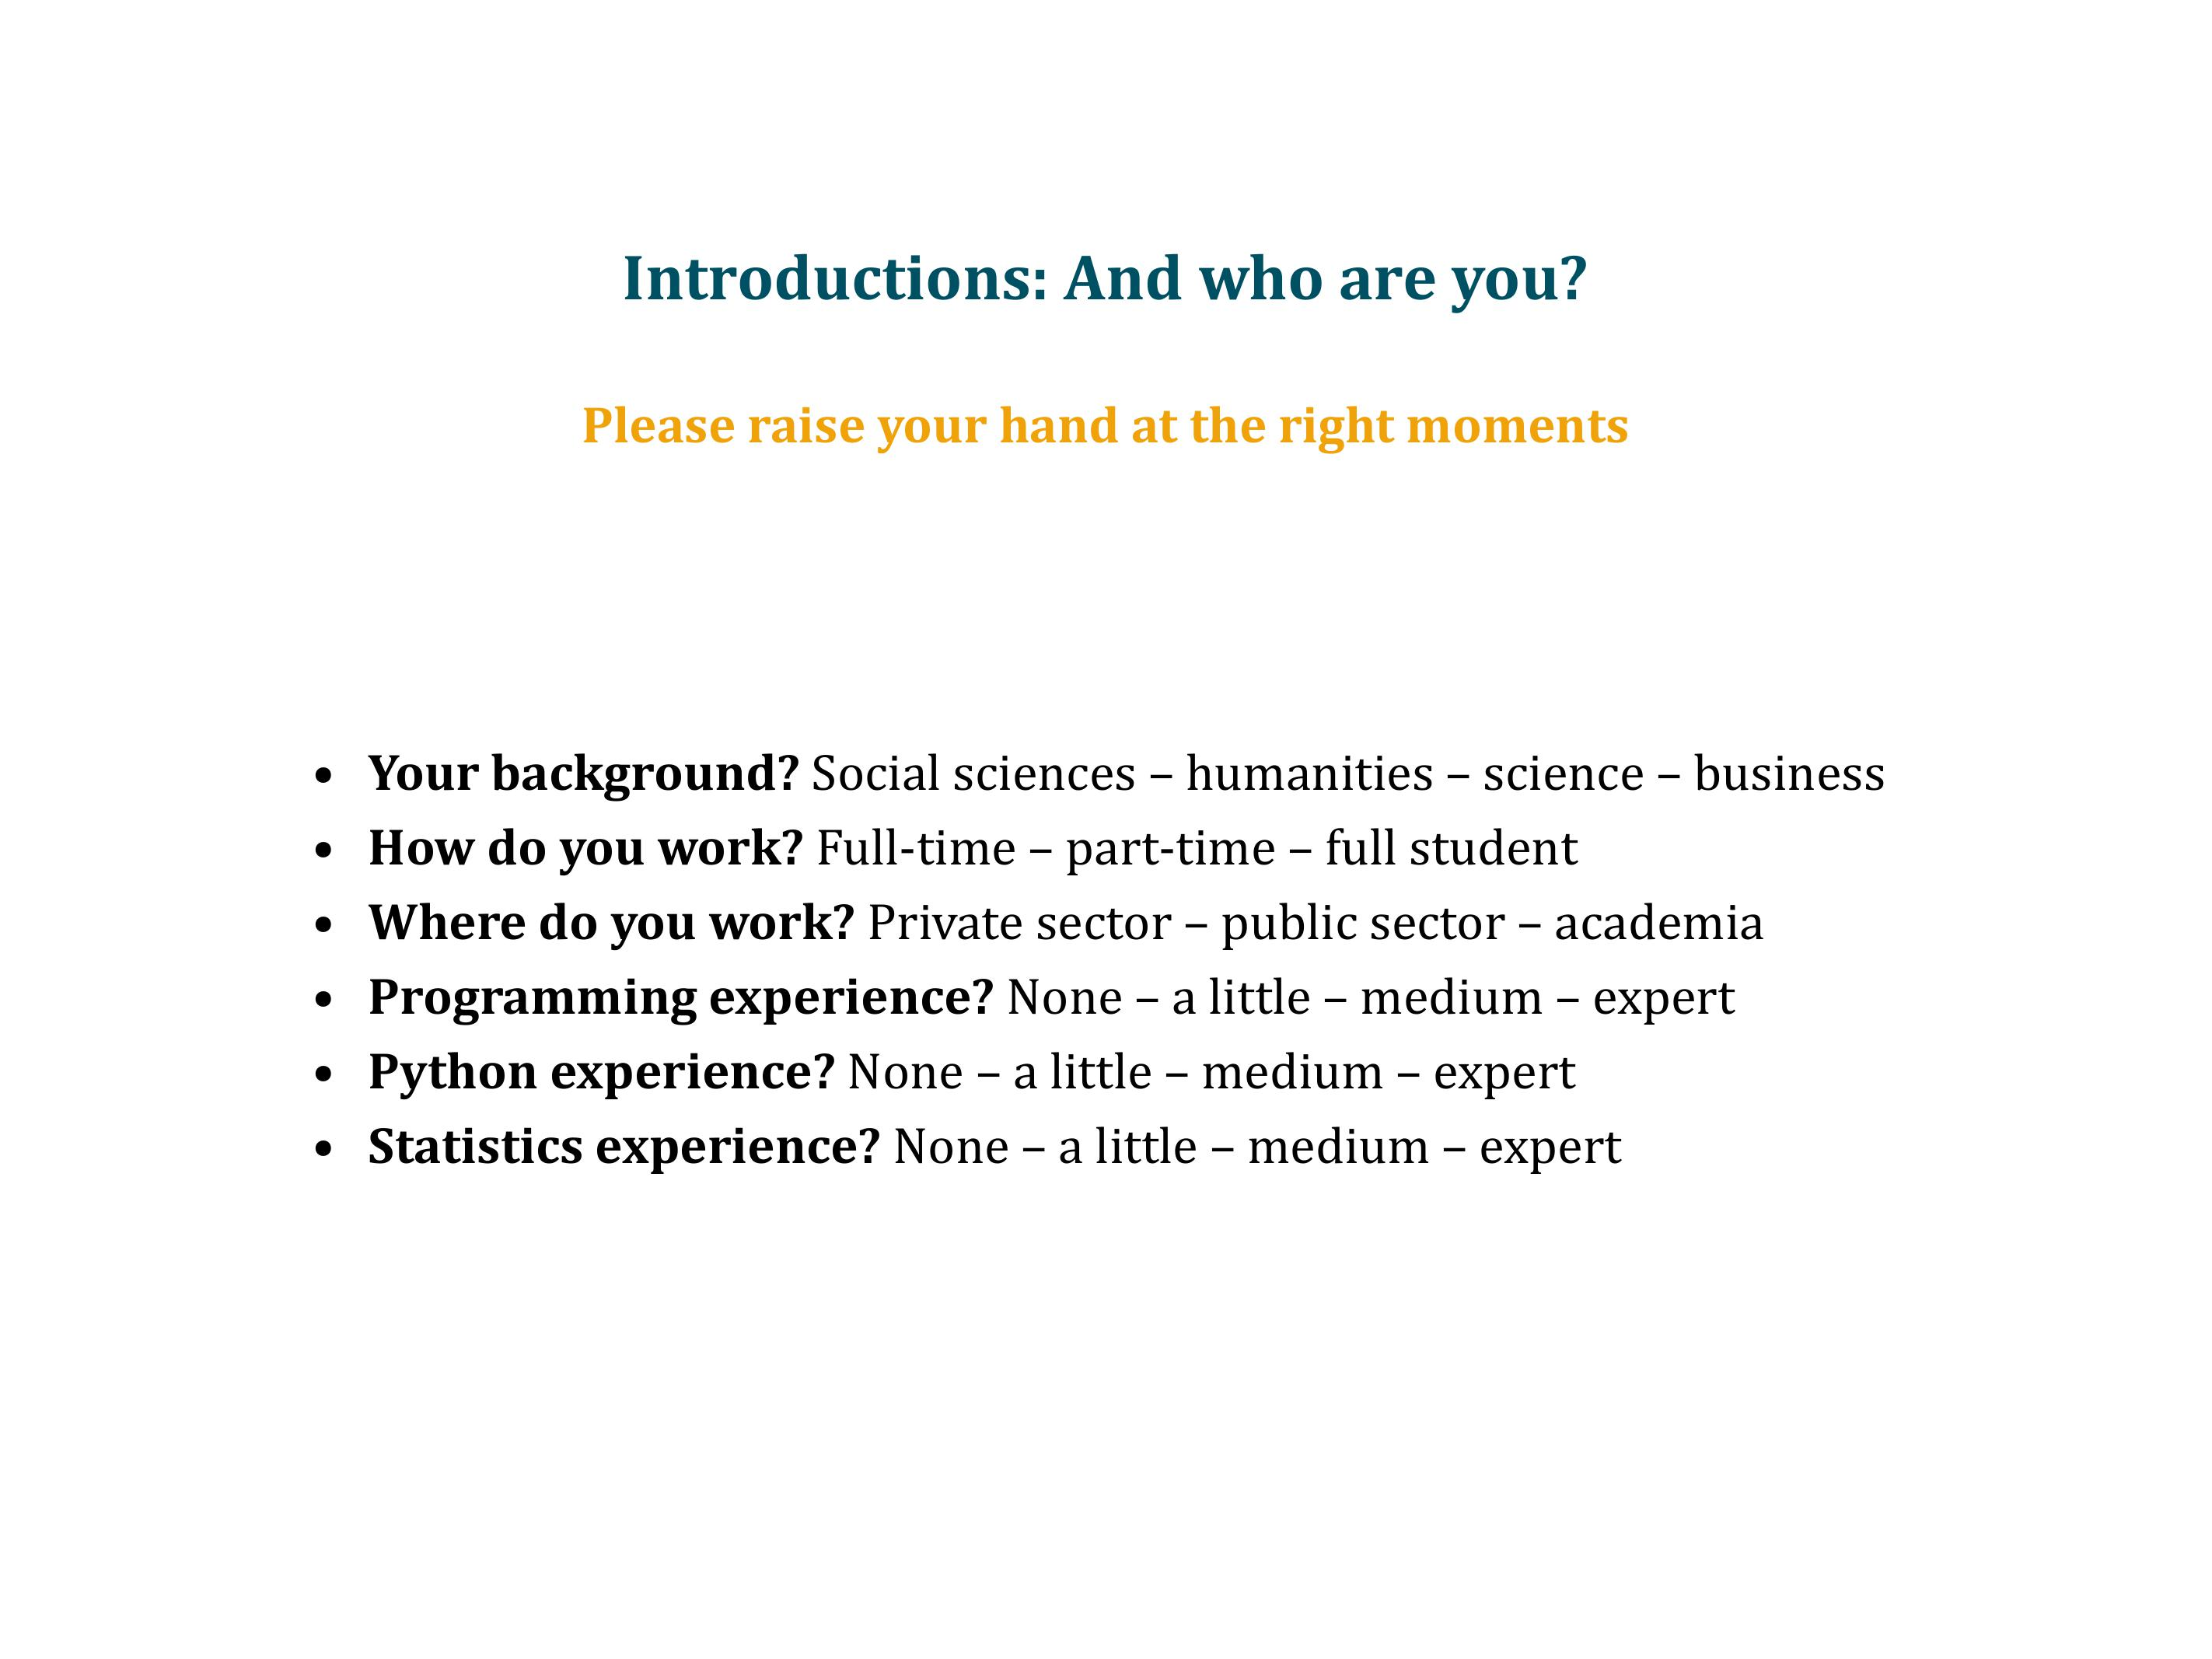Title: (603, 237, 1597, 314)
